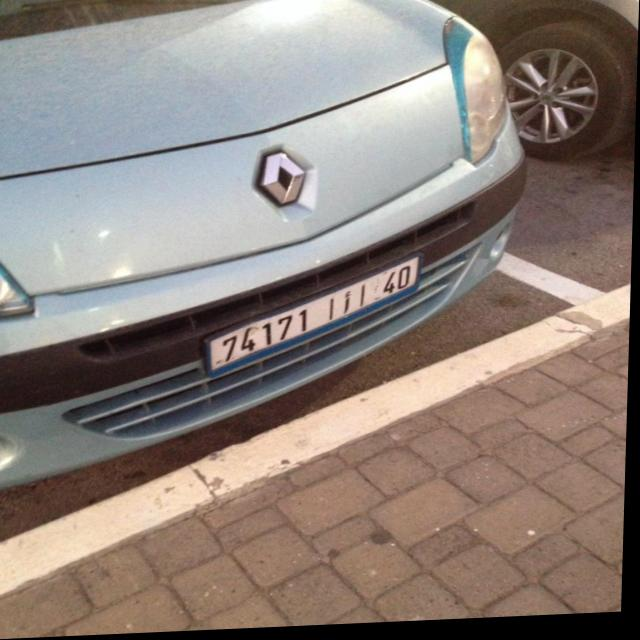License-Plate: (209, 259, 424, 378)
